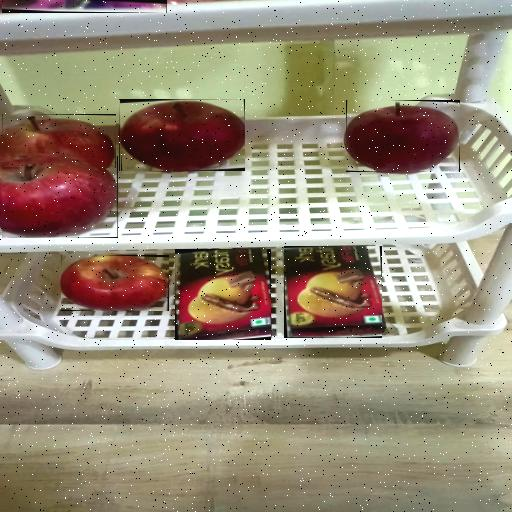Apple: (2, 156, 118, 238), (118, 99, 244, 171), (346, 100, 460, 172), (2, 114, 116, 168), (61, 255, 169, 311)
Choco Fills: (284, 246, 382, 338), (175, 249, 271, 340)
Choco Pie: (2, 0, 167, 13)
